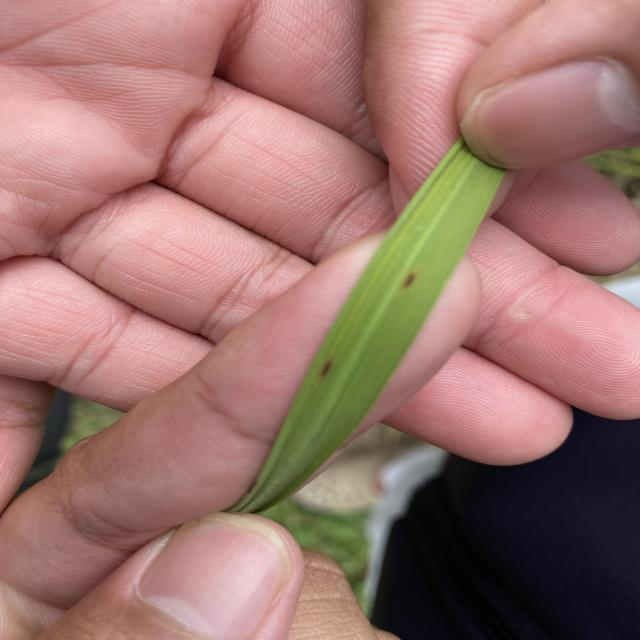Dom nau: (318, 356, 334, 379), (401, 269, 419, 287)
